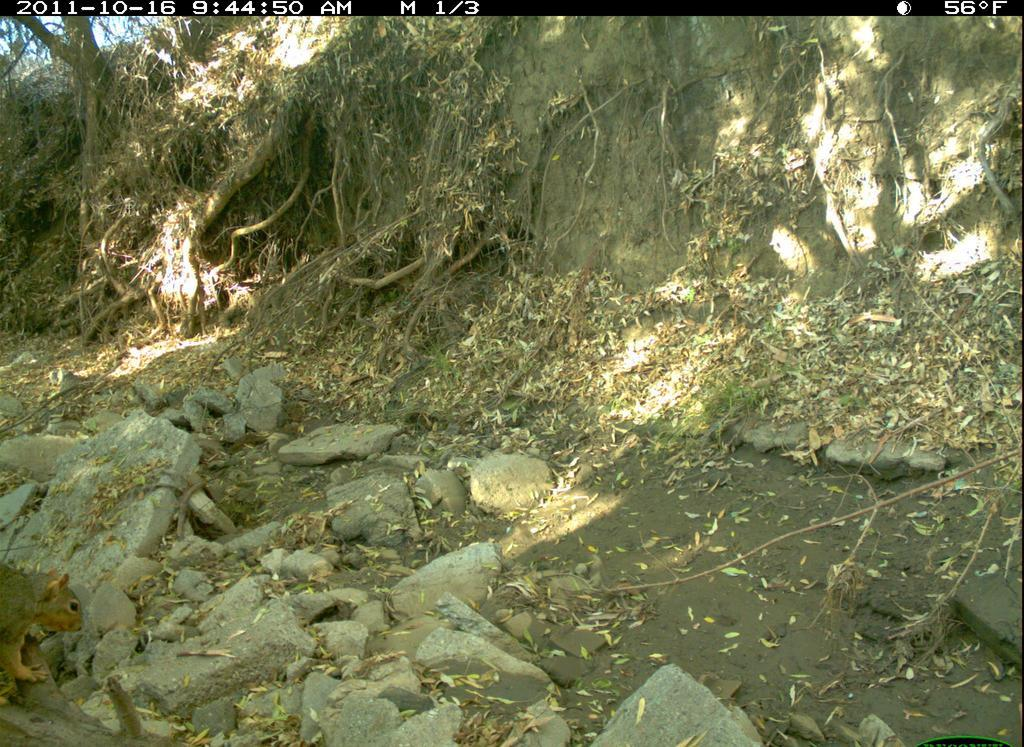squirrel: (4, 561, 90, 715)
